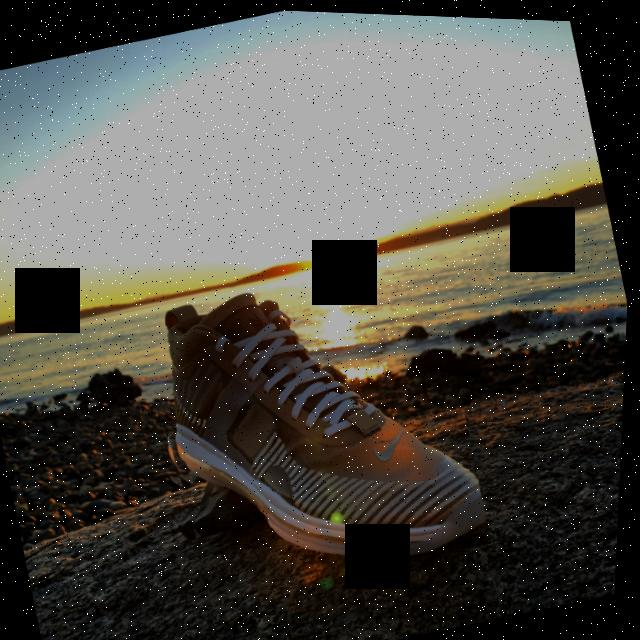shoe: (126, 231, 506, 612)
